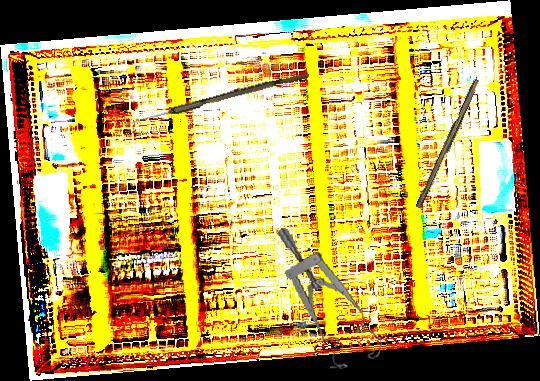Scalpel Handle: (415, 77, 482, 211)
Speculum: (277, 215, 385, 376)
Surgical Spoon: (120, 68, 310, 131)
